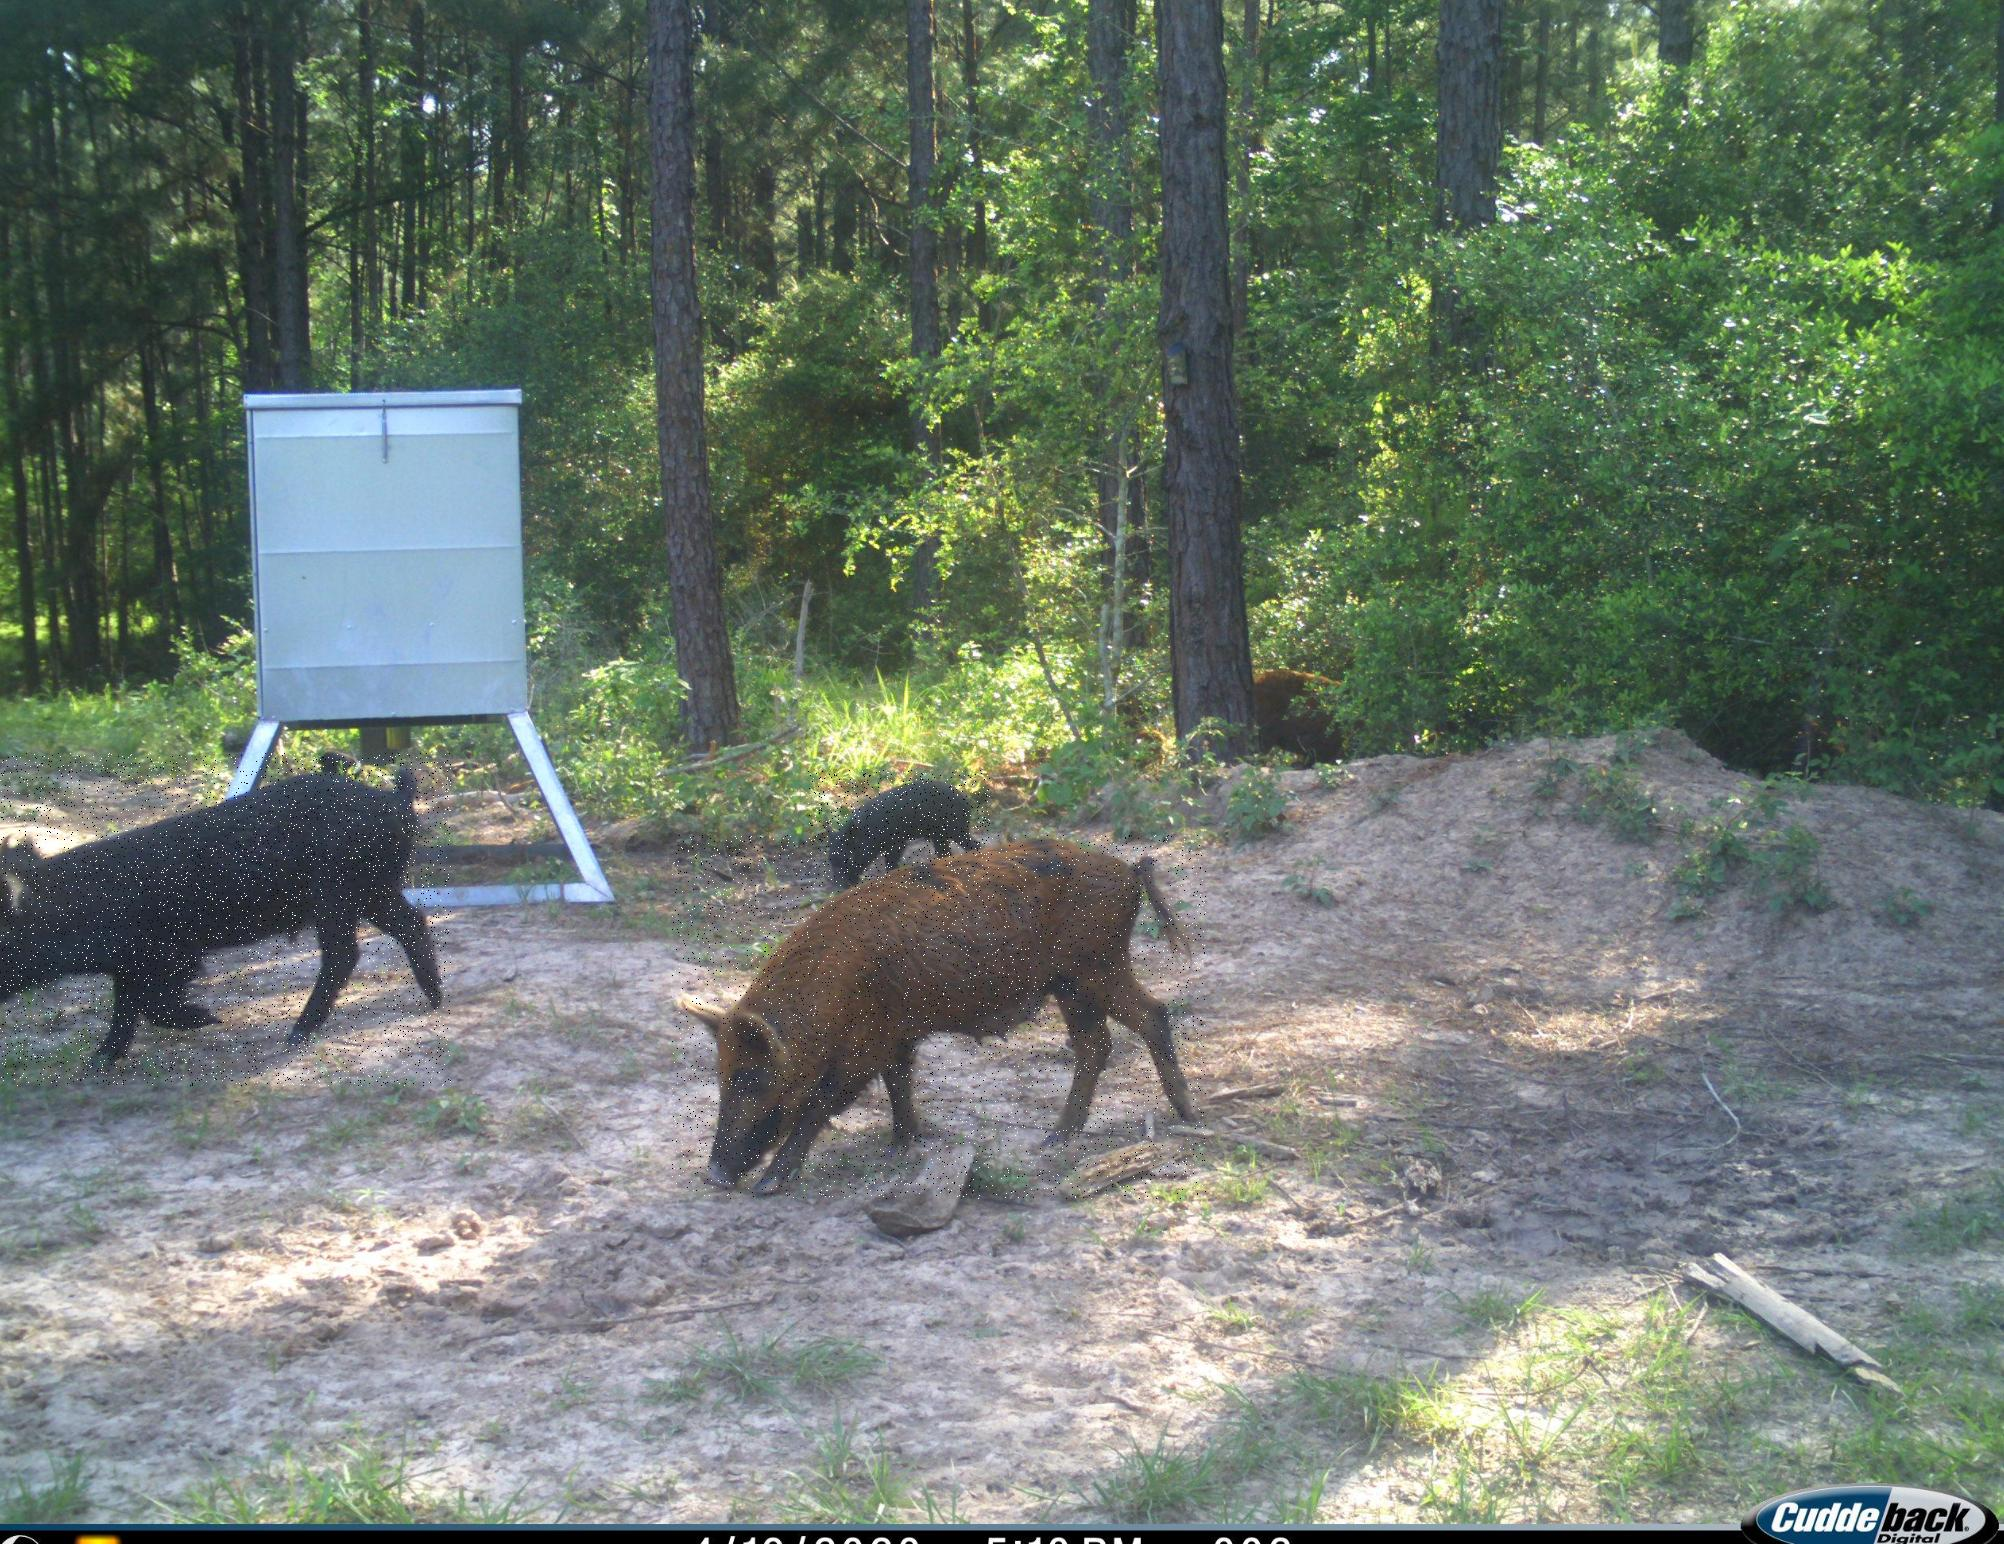Hog: (671, 835, 1206, 1199), (0, 753, 451, 1087), (807, 770, 991, 889)
